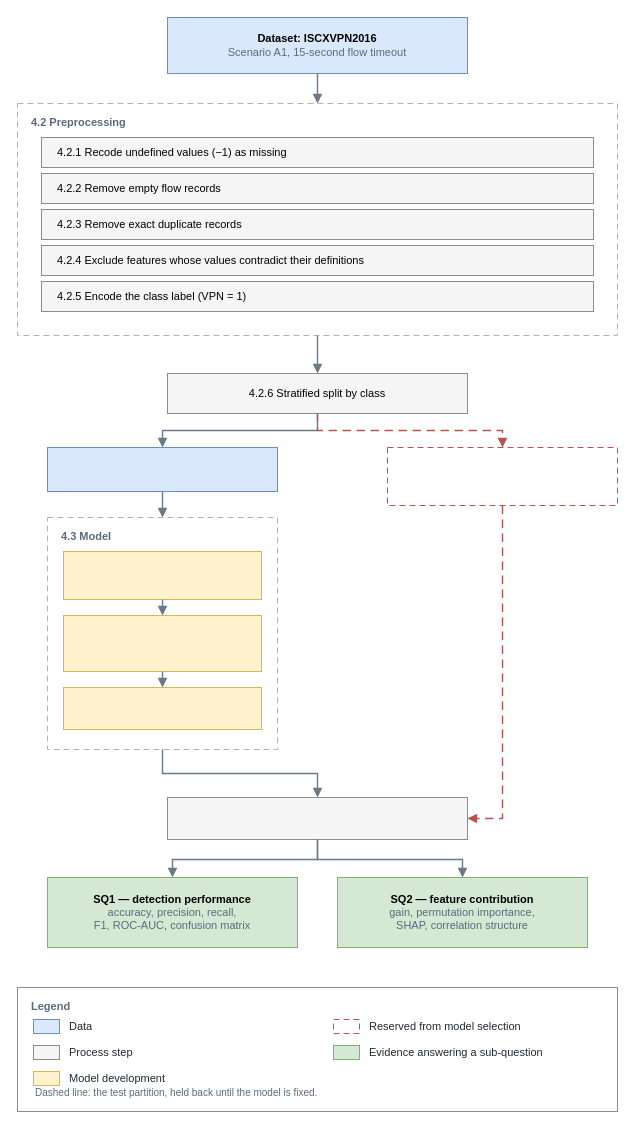
Image size: 635x1129. Some labels were removed from this diagram. The centre of each missing label's shape, as x and y in pixels:
4.4 Evaluation: (x=317, y=818)
Baseline XGBoost library defaults: (x=162, y=575)
Final model, fixed: (x=162, y=708)
Randomised search scored by five-fold cross-validation: (x=162, y=643)
Test set reserved from model selection: (x=502, y=476)
Training set: (x=162, y=469)
